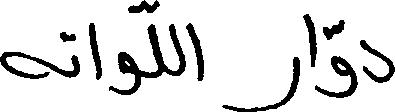X: (247, 52, 297, 111), (118, 0, 140, 99), (331, 15, 356, 102), (0, 47, 52, 83), (361, 35, 394, 87), (147, 0, 163, 82), (187, 18, 203, 85), (305, 9, 315, 94), (170, 19, 183, 80), (90, 18, 101, 84), (73, 29, 80, 81)
